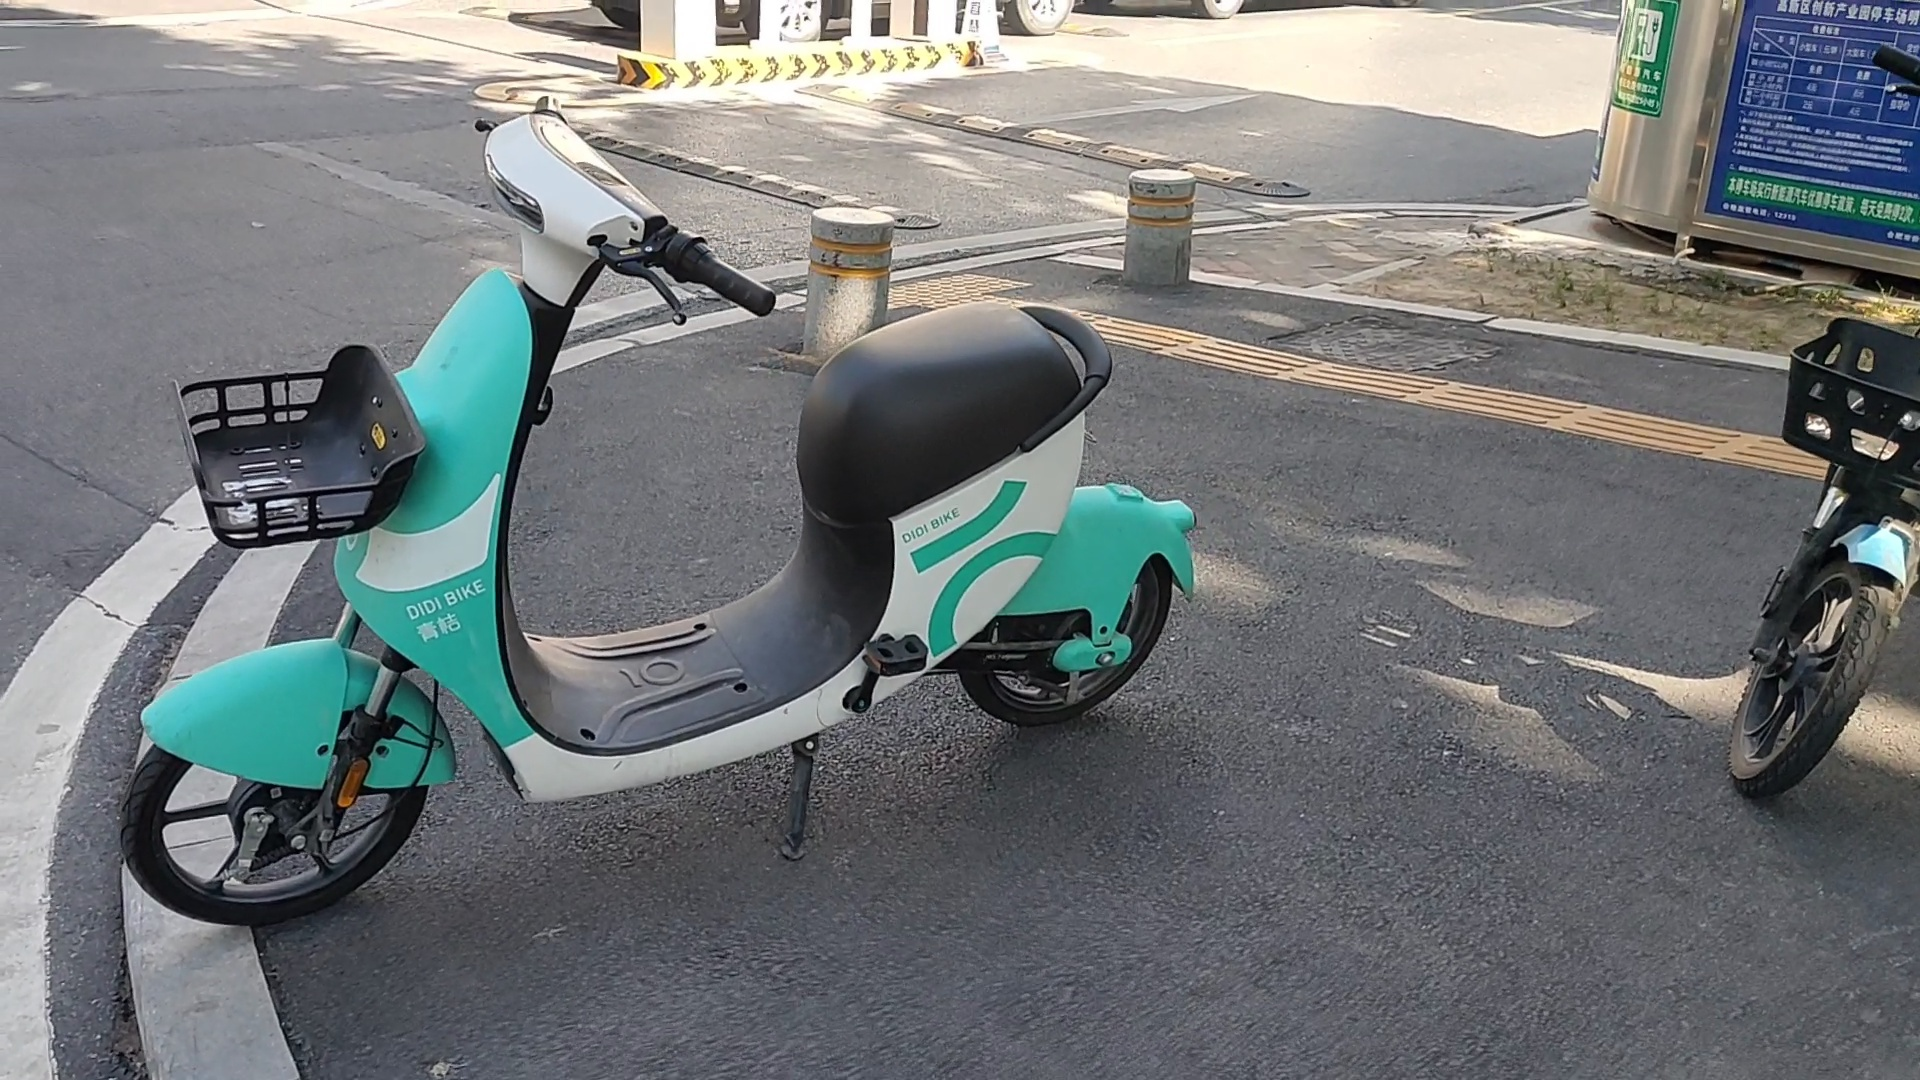non-vehicle: (137, 95, 1189, 978), (1731, 295, 1920, 806)
